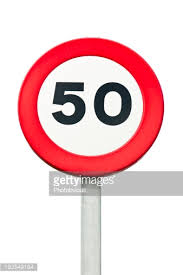Speed_limit_50km: (17, 38, 166, 176)
